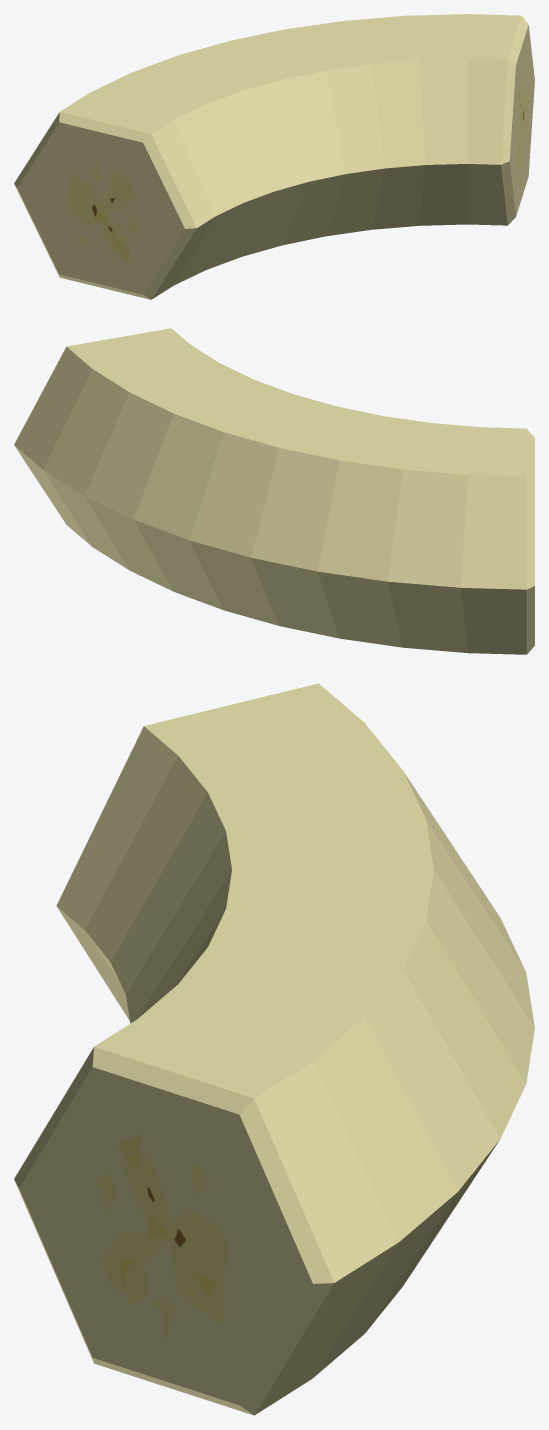
Rendered from banana.fbx.
3 renders of one model, top to bottom at view 1: azimuth 30°, elevation 25°; view 2: azimuth 150°, elevation 25°; view 3: azimuth 270°, elevation 25°, orthographic. The views are drawn at different scales.
Parts seen in each view (by area): view 1: Torus; view 2: Torus; view 3: Torus.
Boxes of the visible parts, box(x1,y1,x2,y2) form: Torus: box(14, 14, 534, 299); Torus: box(14, 328, 534, 654); Torus: box(14, 683, 534, 1415).
Bounding box in the file's own units: 1.36 × 0.433 × 0.645.
